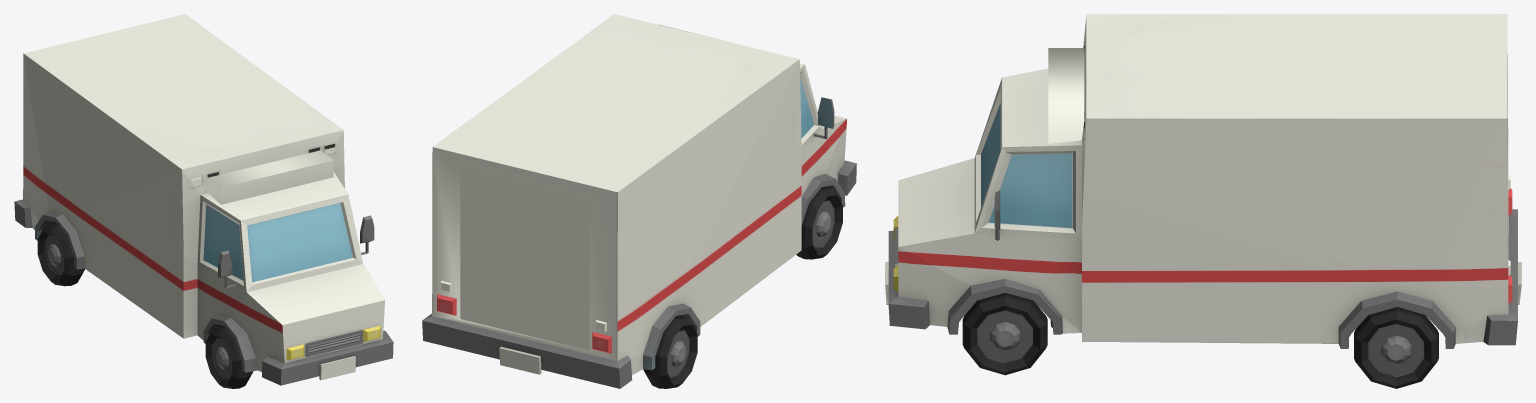
The model's file is Truck.fbx.
3 views of the same model, side by side, from view 1: azimuth 30°, elevation 25°; view 2: azimuth 150°, elevation 25°; view 3: azimuth 270°, elevation 25° (orthographic). The views are drawn at different scales.
Parts seen in each view (by area): view 1: Ambulance; view 2: Ambulance, Door; view 3: Ambulance.
Part boxes in pixels (left/top/right/bottom): Ambulance: left=14, top=14, right=393, bottom=388; Ambulance: left=422, top=14, right=856, bottom=388; Door: left=460, top=169, right=589, bottom=350; Ambulance: left=885, top=14, right=1521, bottom=388.
Size of the model in its own units: 487 by 485 by 1056.
